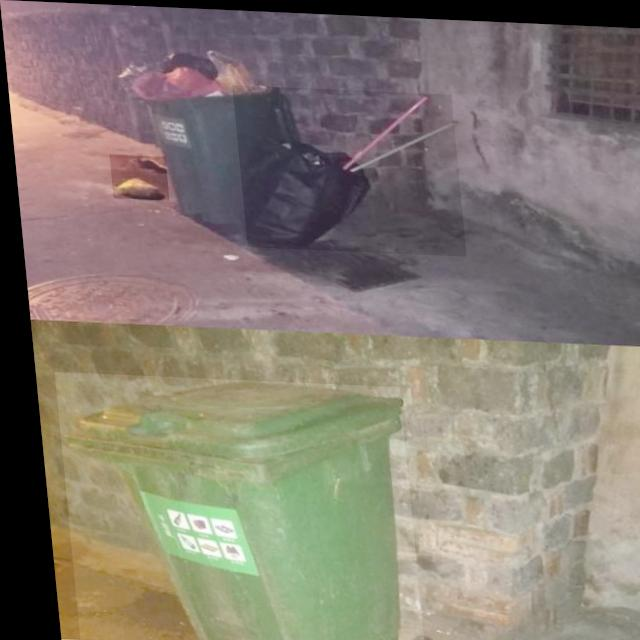garbage: (231, 83, 462, 253), (106, 153, 166, 199)
garbage_bin: (47, 372, 412, 640)
overflow: (115, 44, 294, 224)
